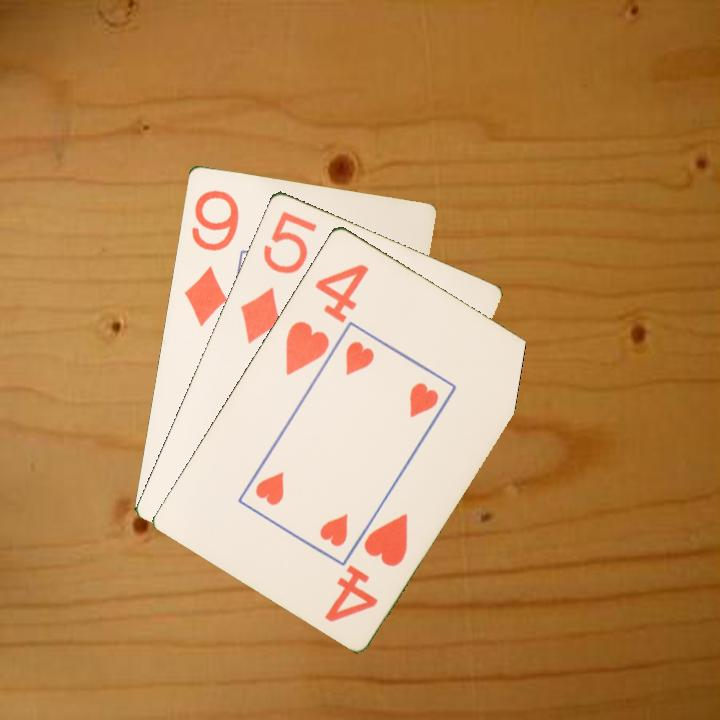4h: (281, 259, 372, 378), (320, 509, 411, 625)
5d: (236, 207, 320, 346)
9d: (180, 185, 242, 329)
